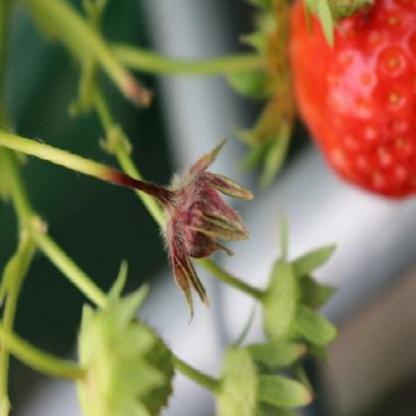Strawberry_Gray_Mold: (113, 138, 257, 324)
